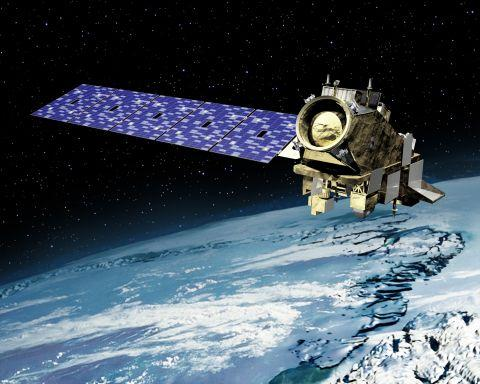antenna: (323, 71, 333, 88), (365, 76, 375, 93), (332, 190, 341, 204), (390, 208, 400, 219)
body: (292, 84, 419, 204)
solar: (28, 82, 305, 164)
thruster: (295, 95, 351, 152)
